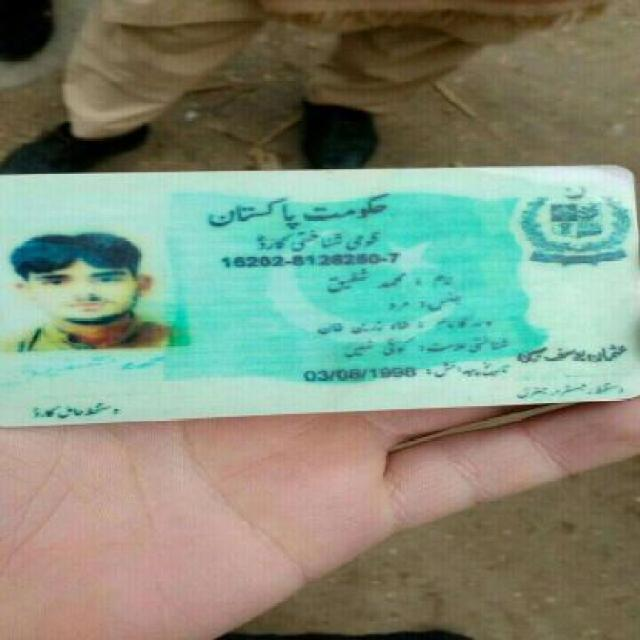Front: (11, 152, 624, 418)
